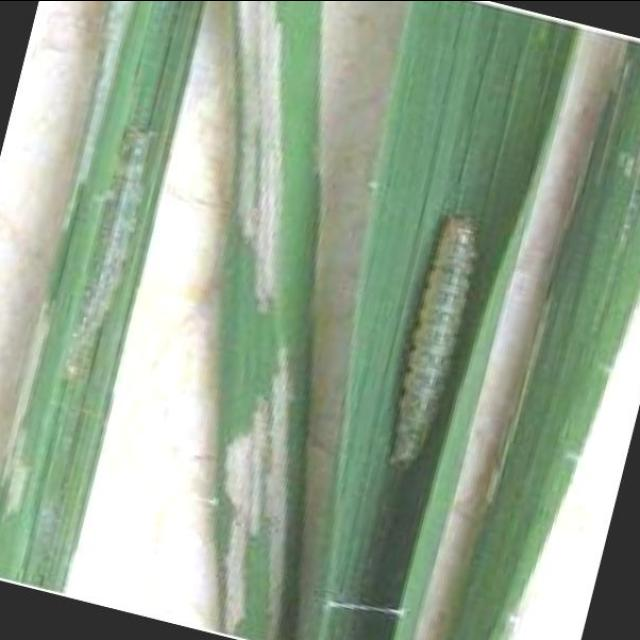leaf folder: (389, 169, 525, 466), (61, 102, 178, 382)
